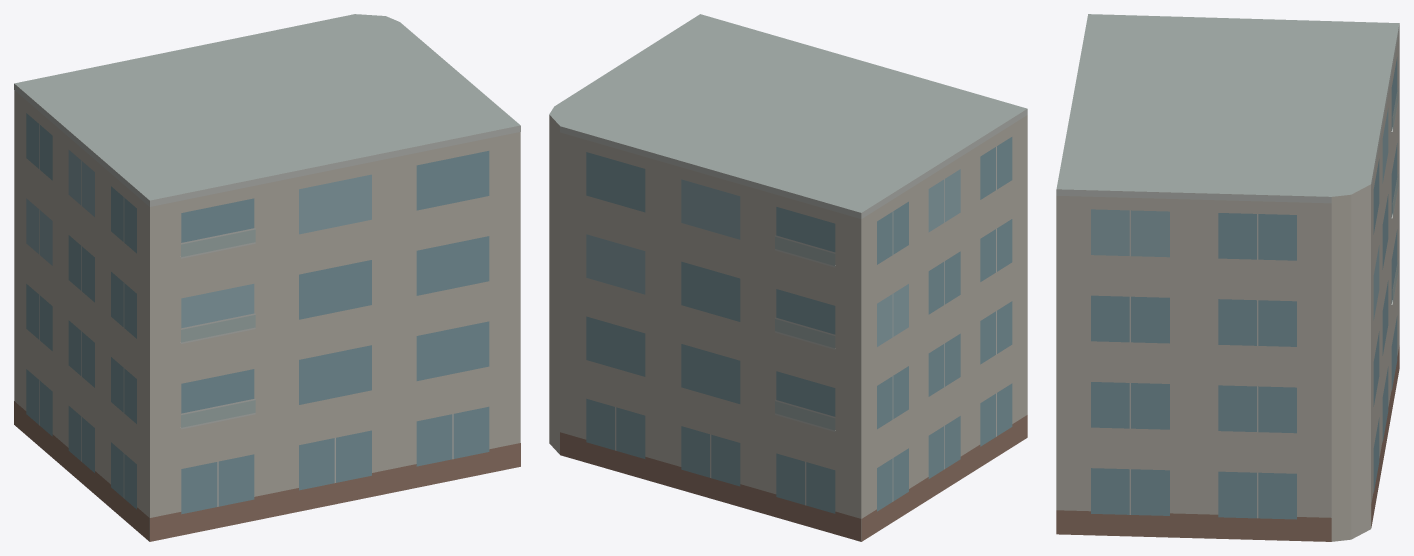
File: survey-upis-32940201.glb
3 renders of one model, left to right at view 1: azimuth 30°, elevation 25°; view 2: azimuth 150°, elevation 25°; view 3: azimuth 270°, elevation 25°, orthographic. The views are drawn at different scales.
Parts seen in each view (by area): view 1: survey-upis-32940201.tmp; view 2: survey-upis-32940201.tmp; view 3: survey-upis-32940201.tmp.
Part boxes in pixels (bbox=[...]): survey-upis-32940201.tmp: bbox=[14, 14, 520, 541]; survey-upis-32940201.tmp: bbox=[549, 14, 1027, 541]; survey-upis-32940201.tmp: bbox=[1056, 14, 1399, 541].
Size of the model in its own units: 14.73 by 12.95 by 11.68.
